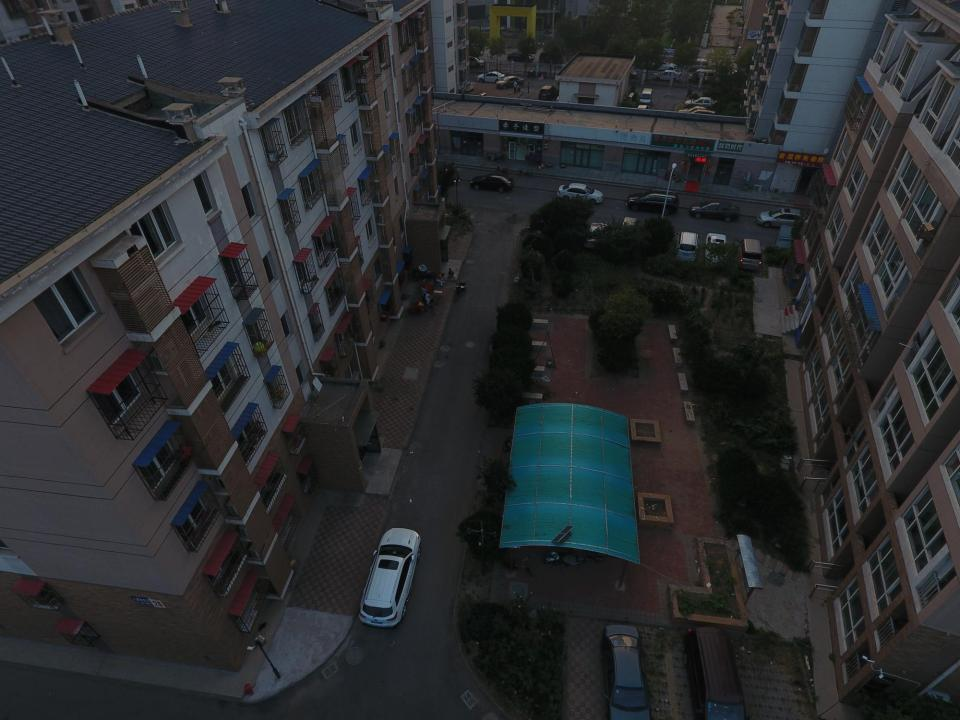car: (359, 527, 421, 631), (600, 624, 656, 720), (626, 189, 680, 216), (756, 207, 815, 231), (689, 198, 740, 222), (556, 182, 604, 204), (470, 172, 514, 193), (582, 222, 612, 252), (704, 233, 728, 269), (677, 106, 715, 118), (684, 97, 720, 109), (496, 75, 524, 90), (652, 69, 682, 83), (610, 66, 638, 79), (477, 71, 506, 83), (538, 84, 557, 102), (648, 60, 678, 71), (460, 56, 486, 68), (506, 51, 534, 62), (639, 88, 652, 105)
van: (683, 626, 753, 720), (674, 231, 702, 263), (737, 238, 762, 271), (617, 216, 638, 245), (687, 69, 716, 84), (684, 58, 710, 74), (539, 49, 563, 64), (481, 26, 505, 38)
